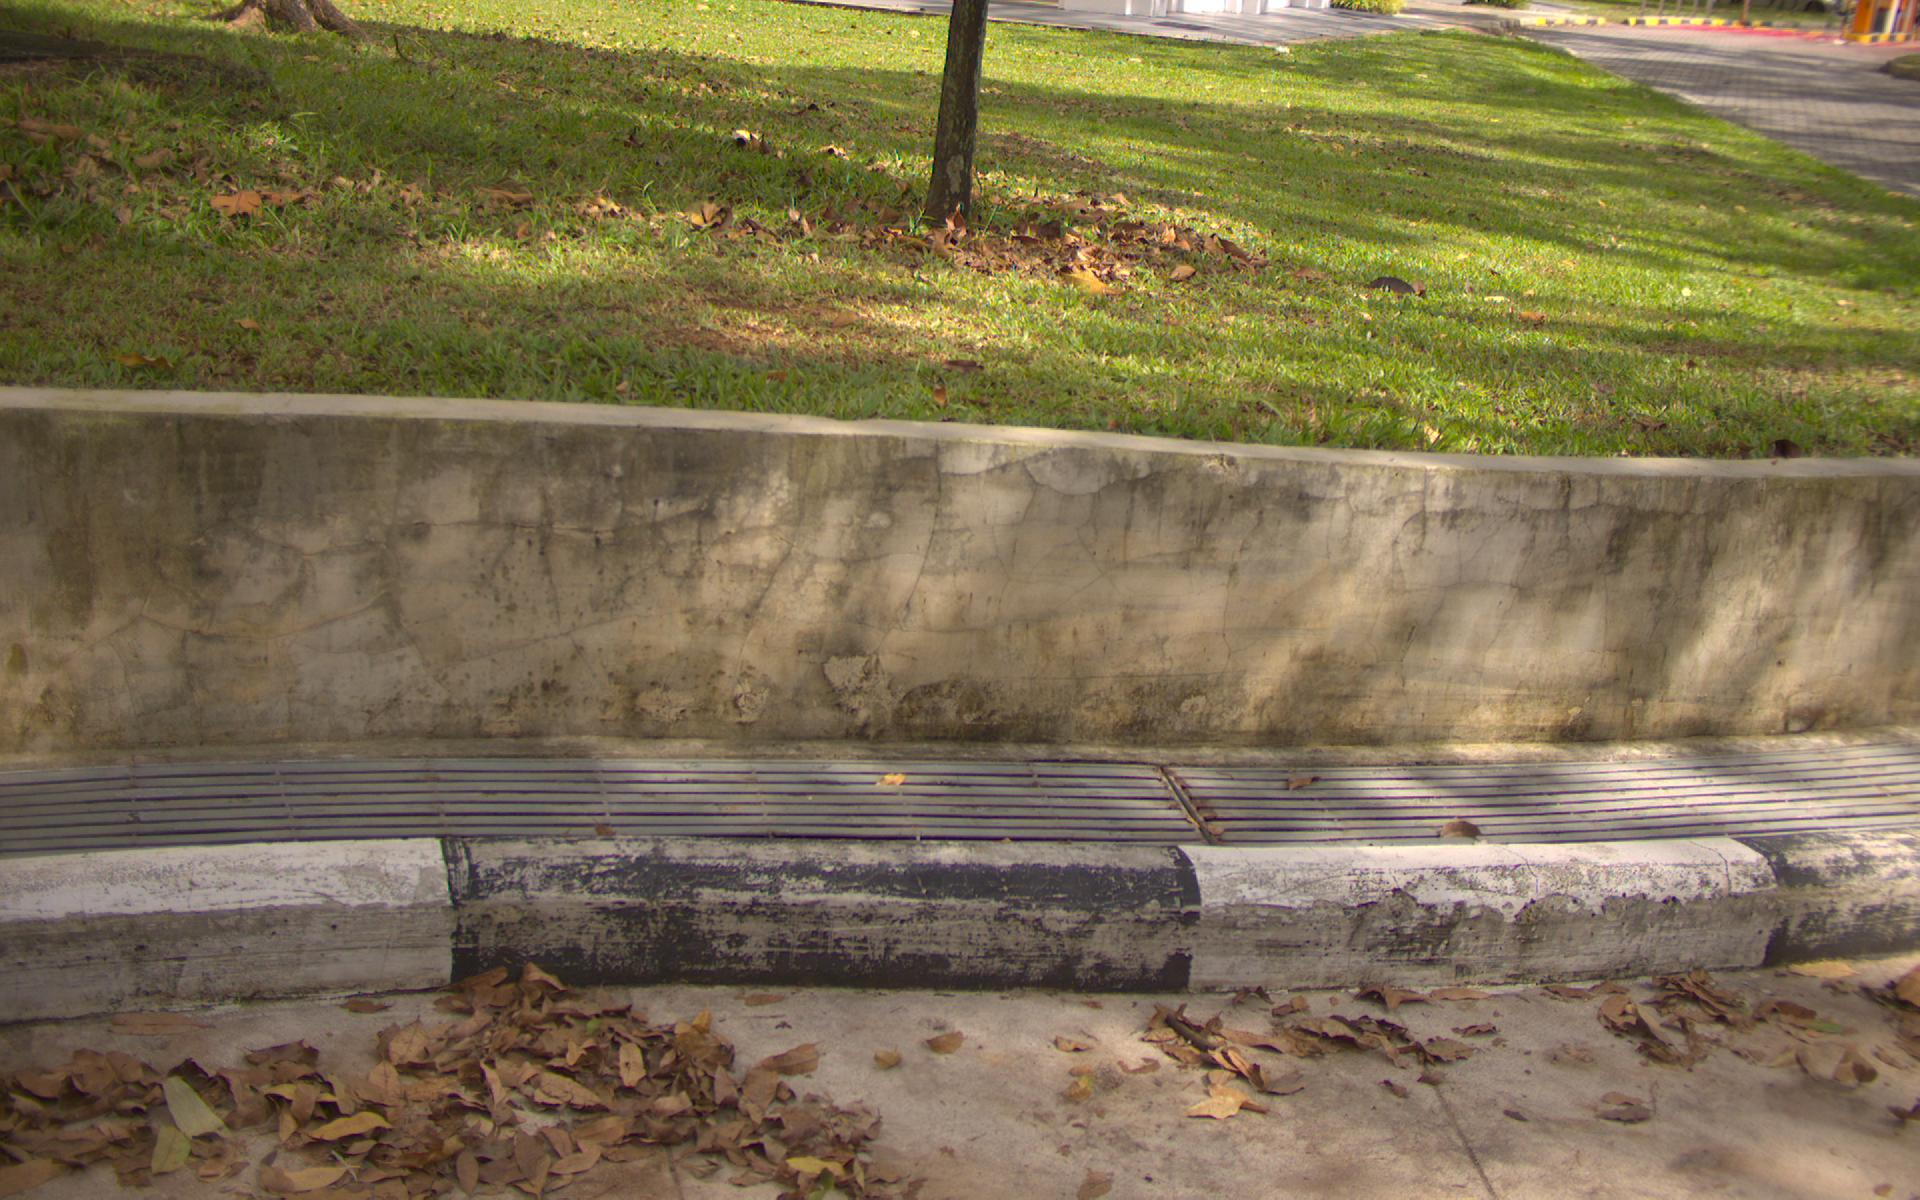curb_dic_low: (135, 731, 1920, 832)
road_curb_medium: (19, 1008, 1920, 1200)
road_turf_low: (8, 51, 1565, 375)
